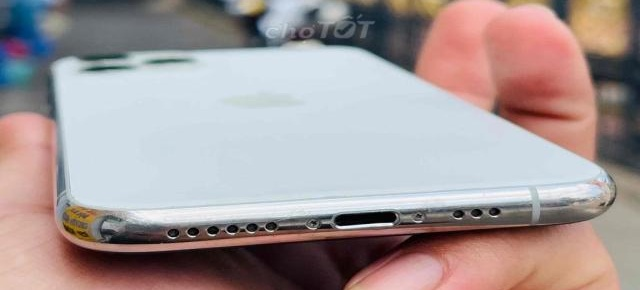scratch: (196, 204, 333, 240), (507, 185, 610, 231)
